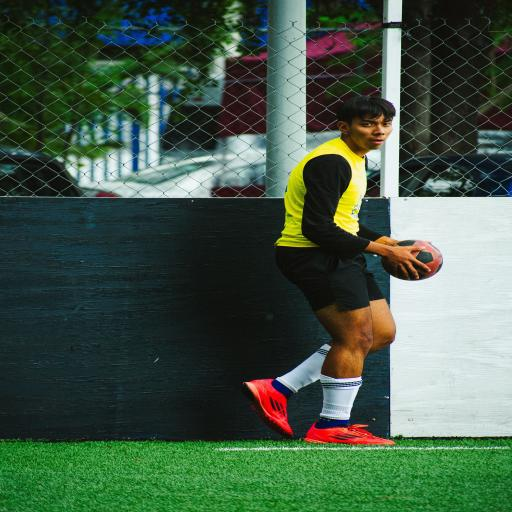shoe: (243, 379, 292, 436), (304, 424, 395, 444)
